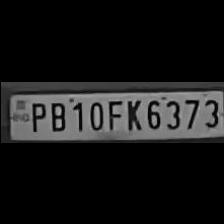0: (85, 98, 105, 130)
1: (66, 97, 84, 130)
3: (200, 94, 220, 128), (164, 96, 181, 130)
6: (142, 96, 162, 130)
7: (181, 96, 199, 128)
B: (46, 97, 66, 130)
F: (105, 96, 123, 130)
K: (122, 97, 142, 131)
P: (26, 98, 46, 132)
